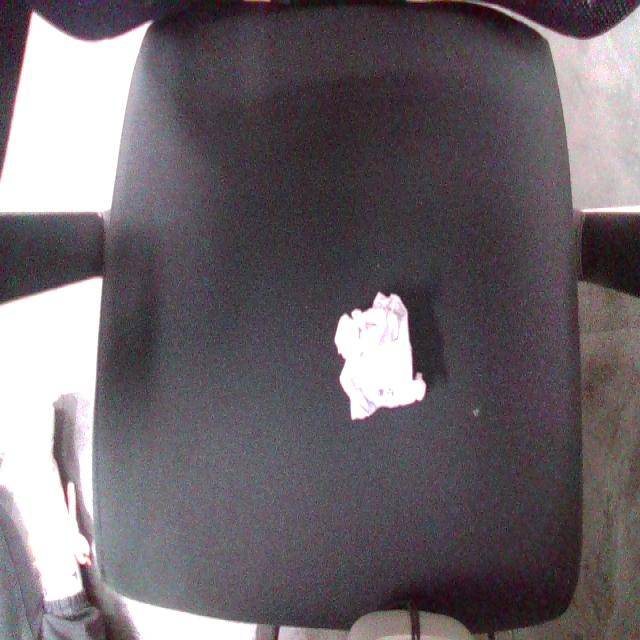paper: (312, 274, 437, 443)
